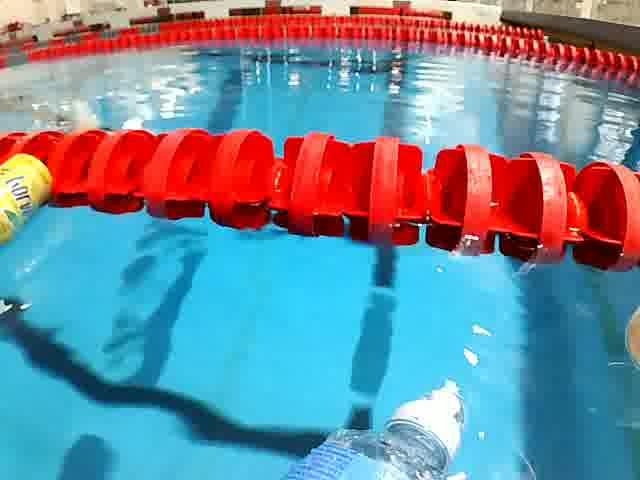Bottle: (273, 373, 471, 480)
Can: (0, 147, 58, 246)
